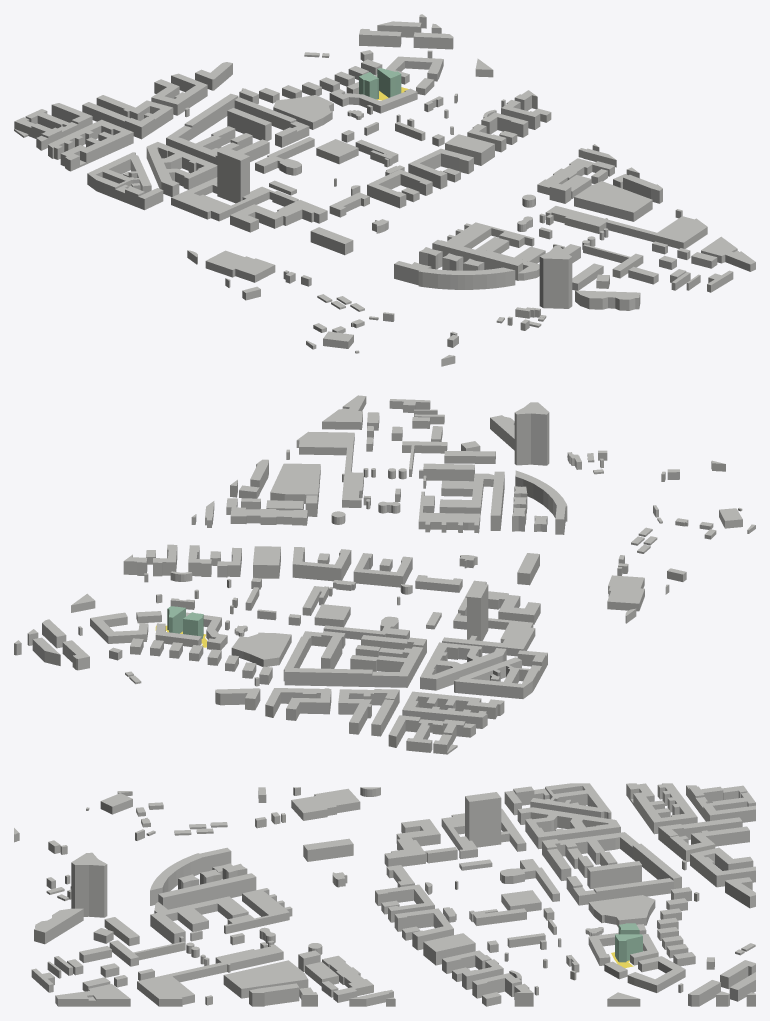
3 renders of one model, top to bottom at view 1: azimuth 30°, elevation 25°; view 2: azimuth 150°, elevation 25°; view 3: azimuth 270°, elevation 25°, orthographic. The views are drawn at different scales.
Visible parts, largest first — view 1: context_0009, context_0002, context_0000, context_0001, context_0025, context_0039, context_0014, context_0016, context_0005, context_0003, context_0018, context_0004 (+19 smaller); view 2: context_0025, context_0001, context_0000, context_0005, context_0002, context_0009, context_0014, context_0016, context_0004, context_0003, context_0007, context_0011 (+16 smaller); view 3: context_0002, context_0025, context_0039, context_0000, context_0017, context_0009, context_0005, context_0003, context_0014, context_0001, context_0004, context_0011 (+48 smaller).
Part boxes in pixels (x1,y1,x2,y2): context_0009: (394,261,515,289); context_0002: (230,190,327,232); context_0000: (574,181,652,221); context_0001: (171,177,274,221); context_0025: (539,246,572,308); context_0039: (217,147,249,203); context_0014: (408,148,473,189); context_0016: (367,169,432,208); context_0005: (273,95,333,129); context_0003: (205,250,275,282); context_0018: (575,290,640,310); context_0004: (654,216,707,248); context_0025: (514,402,549,465); context_0001: (442,613,535,656); context_0000: (270,463,320,503); context_0005: (231,632,291,666); context_0002: (458,580,540,624); context_0009: (515,470,567,534); context_0014: (292,547,351,581); context_0016: (353,553,412,587); context_0004: (296,431,354,455); context_0003: (607,575,644,611); context_0007: (230,507,307,525); context_0011: (90,612,148,643); context_0002: (384,819,457,866); context_0025: (71,852,107,917); context_0039: (465,792,501,847); context_0000: (223,960,308,998); context_0017: (158,873,256,909); context_0009: (150,847,231,905); context_0005: (588,895,655,927); context_0003: (291,788,360,820); context_0014: (394,908,453,950); context_0001: (441,808,526,858); context_0004: (137,974,194,1006); context_0011: (627,956,685,992).
Bounding box in the file's own units: 699 × 80 × 1036.
